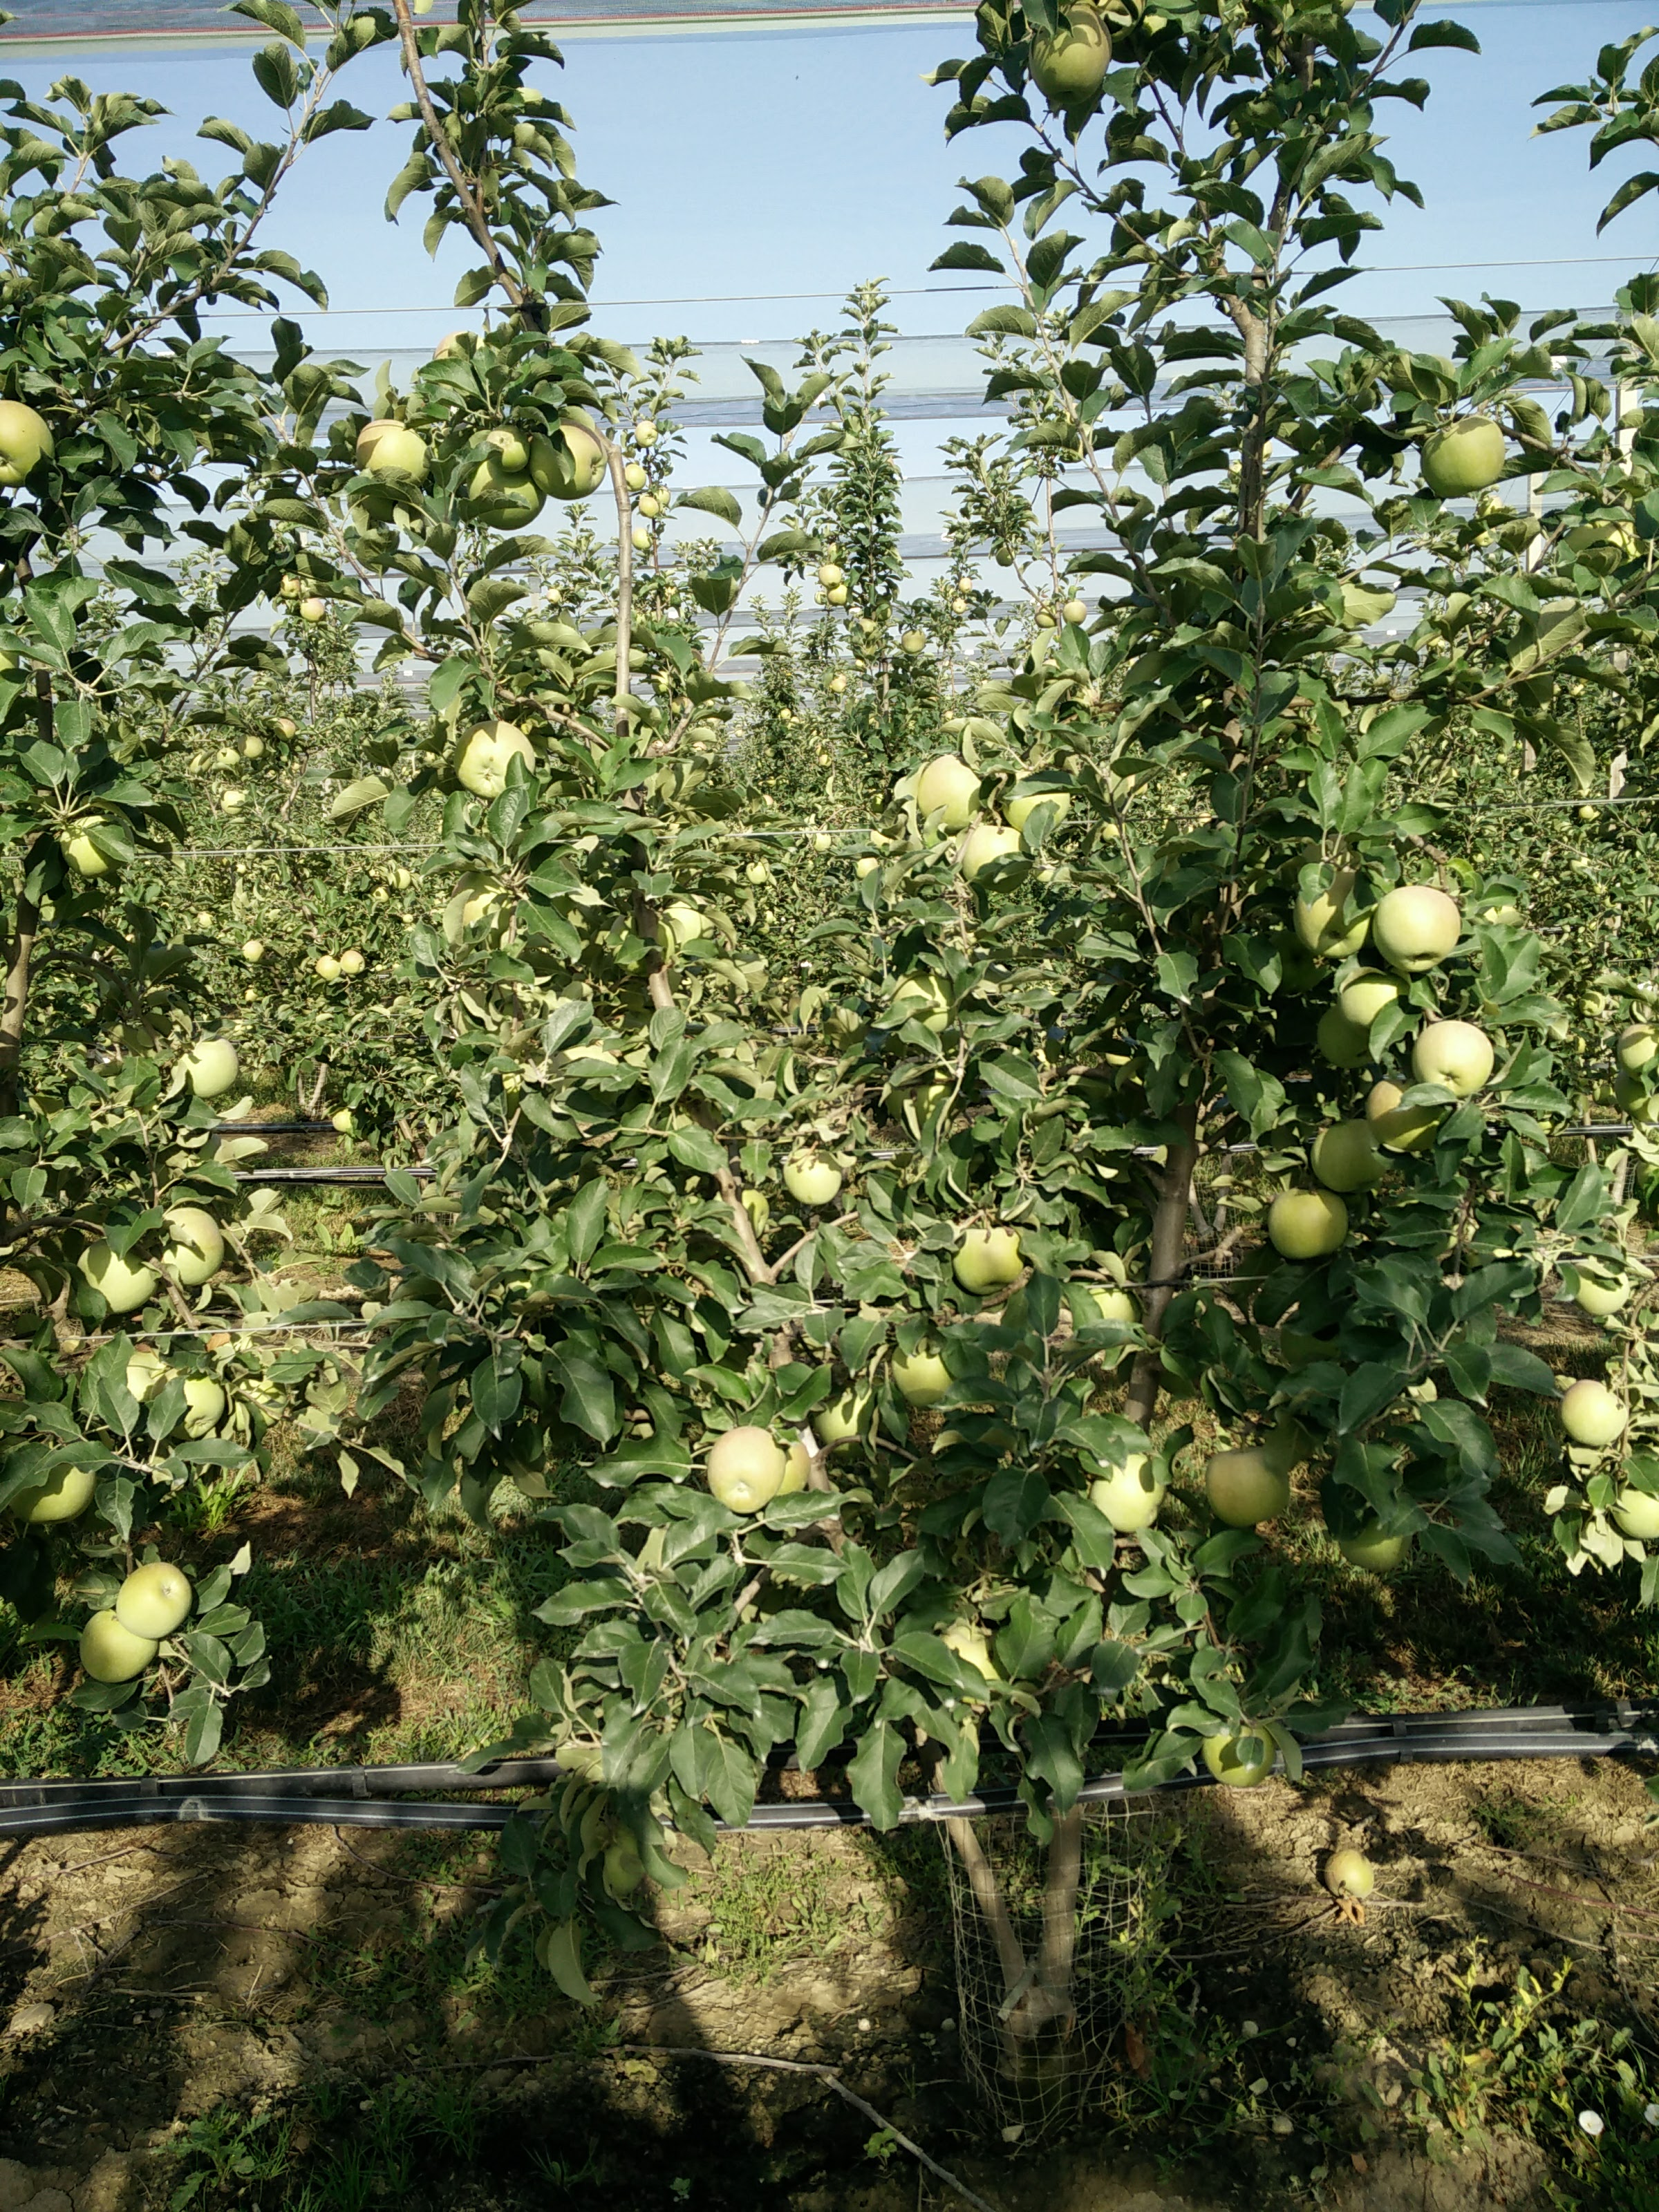apple: (1022, 1, 1111, 104), (1369, 883, 1458, 970), (706, 1422, 784, 1515), (1419, 416, 1509, 496), (1082, 1444, 1165, 1529), (1203, 1444, 1288, 1526), (1411, 1019, 1500, 1096), (529, 421, 613, 502), (71, 1235, 155, 1315), (449, 717, 534, 796), (74, 1609, 158, 1687), (1308, 1116, 1391, 1194), (350, 413, 428, 492), (948, 1219, 1032, 1293), (1268, 1184, 1351, 1257), (111, 1561, 190, 1635), (1364, 1078, 1445, 1152), (142, 1208, 223, 1280), (915, 753, 991, 828), (887, 1334, 960, 1407), (960, 821, 1031, 894), (1560, 1377, 1627, 1449), (1334, 964, 1407, 1030), (171, 1034, 237, 1094), (782, 1146, 842, 1206)
